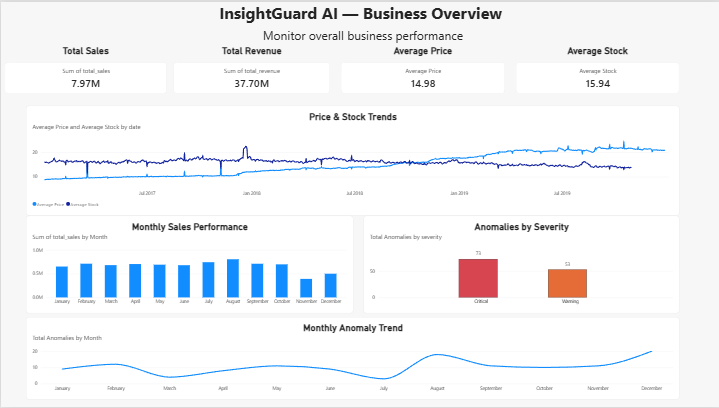

The dashboard page shown, as its layout file describes it:
{"tool":"powerbi","page":{"name":"Business Overview","canvas":[1920,1080],"ordinal":2},"visuals":[{"type":"textbox","box":[10,0,1910,65],"z":0},{"type":"textbox","box":[10,65,1910,52.5],"z":1000},{"type":"cardVisual","title":"Total Sales","fields":{"Data":["Sum(daily_kpis.total_sales)"]},"box":[10,117.5,432.5,127.5],"z":2000},{"type":"cardVisual","title":"Total Revenue","fields":{"Data":["Sum(daily_kpis.total_revenue)"]},"box":[460,117.5,417.5,127.5],"z":3000},{"type":"cardVisual","title":"Average Price","fields":{"Data":["anomaly_report.Average Price"]},"box":[905,117.5,437.5,127.5],"z":4000},{"type":"cardVisual","title":"Average Stock","fields":{"Data":["anomaly_report.Average Stock"]},"box":[1372.5,117.5,435,127.5],"z":5000},{"type":"lineChart","title":"Price & Stock Trends","fields":{"Category":["daily_kpis.date"],"Y":["anomaly_report.Average Price","anomaly_report.Average Stock"]},"box":[65,277.5,1742.5,292.5],"z":6000},{"type":"clusteredColumnChart","title":"Monthly Sales Performance","fields":{"Category":["daily_kpis.date.Variation.Date Hierarchy.Month"],"Y":["Sum(daily_kpis.total_sales)"]},"box":[65,570,872.5,260],"z":7000},{"type":"clusteredColumnChart","title":"Anomalies by Severity","fields":{"Category":["anomaly_report.severity"],"Y":["anomaly_report.Total Anomalies"]},"box":[965,570,842.5,260],"z":8000},{"type":"lineChart","title":"Monthly Anomaly Trend","fields":{"Category":["anomaly_report.date.Variation.Date Hierarchy.Month"],"Y":["anomaly_report.Total Anomalies"]},"box":[65,840,1742.5,220],"z":9000}]}

Visuals, with their boxes in screenshot pixels (x1, y1, x2, y2), scaled from the page's 1920x1080 canvas onto the 719x408 screenshot:
textbox: x1=4 y1=0 x2=718 y2=25
textbox: x1=4 y1=25 x2=718 y2=44
"Total Sales" cardVisual: x1=4 y1=44 x2=166 y2=93
"Total Revenue" cardVisual: x1=172 y1=44 x2=329 y2=93
"Average Price" cardVisual: x1=339 y1=44 x2=503 y2=93
"Average Stock" cardVisual: x1=514 y1=44 x2=677 y2=93
"Price & Stock Trends" lineChart: x1=24 y1=105 x2=677 y2=215
"Monthly Sales Performance" clusteredColumnChart: x1=24 y1=215 x2=351 y2=314
"Anomalies by Severity" clusteredColumnChart: x1=361 y1=215 x2=677 y2=314
"Monthly Anomaly Trend" lineChart: x1=24 y1=317 x2=677 y2=400
